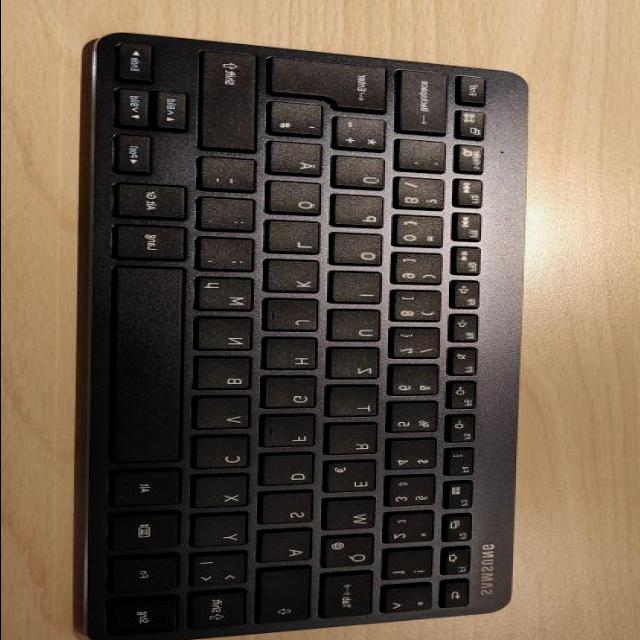0: (396, 218, 450, 252)
1: (387, 551, 439, 583)
2: (390, 515, 440, 547)
3: (390, 479, 442, 511)
4: (392, 442, 444, 473)
5: (392, 405, 444, 437)
6: (393, 367, 445, 400)
7: (393, 330, 447, 363)
8: (395, 293, 449, 326)
9: (396, 255, 448, 289)
a: (263, 533, 319, 566)
accent: (399, 142, 453, 176)
ae: (270, 144, 328, 180)
alt-left: (115, 472, 189, 510)
altgr-right: (118, 185, 194, 222)
b: (198, 360, 259, 394)
c: (197, 439, 257, 473)
caret: (386, 589, 438, 617)
comma: (201, 240, 261, 276)
d: (264, 457, 320, 490)
del: (401, 73, 456, 139)
e: (328, 463, 384, 497)
enter: (270, 60, 395, 116)
f: (266, 419, 322, 452)
g: (267, 380, 323, 413)
h: (267, 340, 323, 374)
hash: (271, 104, 329, 140)
i: (332, 273, 387, 307)
j: (269, 302, 325, 336)
k: (268, 263, 326, 297)
keyboard: (78, 32, 532, 640)
l: (268, 223, 326, 257)
less: (194, 555, 255, 591)
m: (199, 281, 261, 315)
minus: (203, 159, 263, 196)
n: (198, 321, 259, 355)
o: (334, 236, 389, 270)
oe: (270, 183, 328, 219)
p: (335, 197, 390, 231)
plus: (337, 119, 393, 155)
point: (203, 200, 263, 236)
q: (325, 538, 381, 572)
r: (329, 426, 384, 459)
s: (262, 495, 320, 528)
shift-left: (192, 593, 253, 633)
shift-lock: (261, 571, 317, 627)
shift-right: (203, 53, 265, 156)
space: (113, 269, 192, 466)
ss: (399, 180, 451, 214)
strg-left: (110, 601, 186, 639)
t: (331, 389, 386, 421)
tab: (325, 574, 381, 622)
u: (331, 312, 386, 345)
ue: (336, 157, 392, 193)
v: (198, 399, 258, 433)
w: (328, 501, 383, 534)
x: (197, 478, 257, 511)
y: (195, 517, 255, 551)
z: (331, 350, 386, 383)
